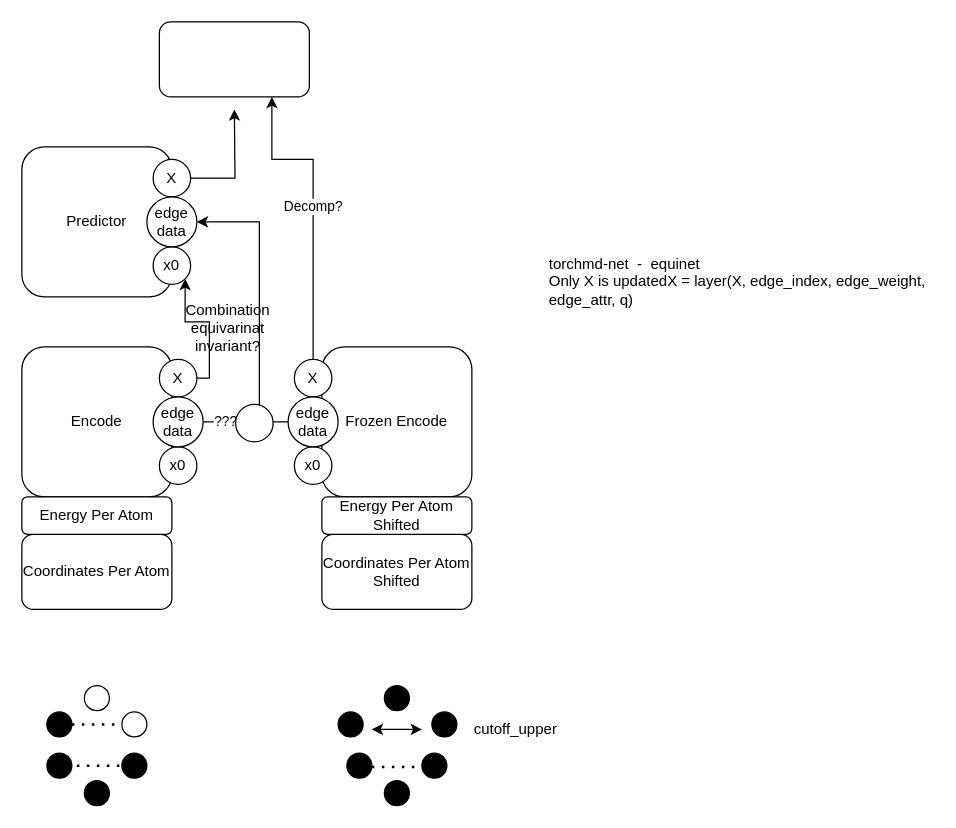
This 956x828 diagram has some shape labels left out. The shapes that lost their labels are listed below. From the top down, each one's centre as x and y in pixels, then its label:
At point (233, 59): "Loss".
At point (253, 422): "op".
